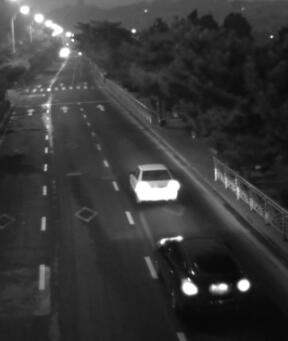car: (157, 236, 251, 320), (128, 163, 180, 204), (58, 45, 72, 56)
